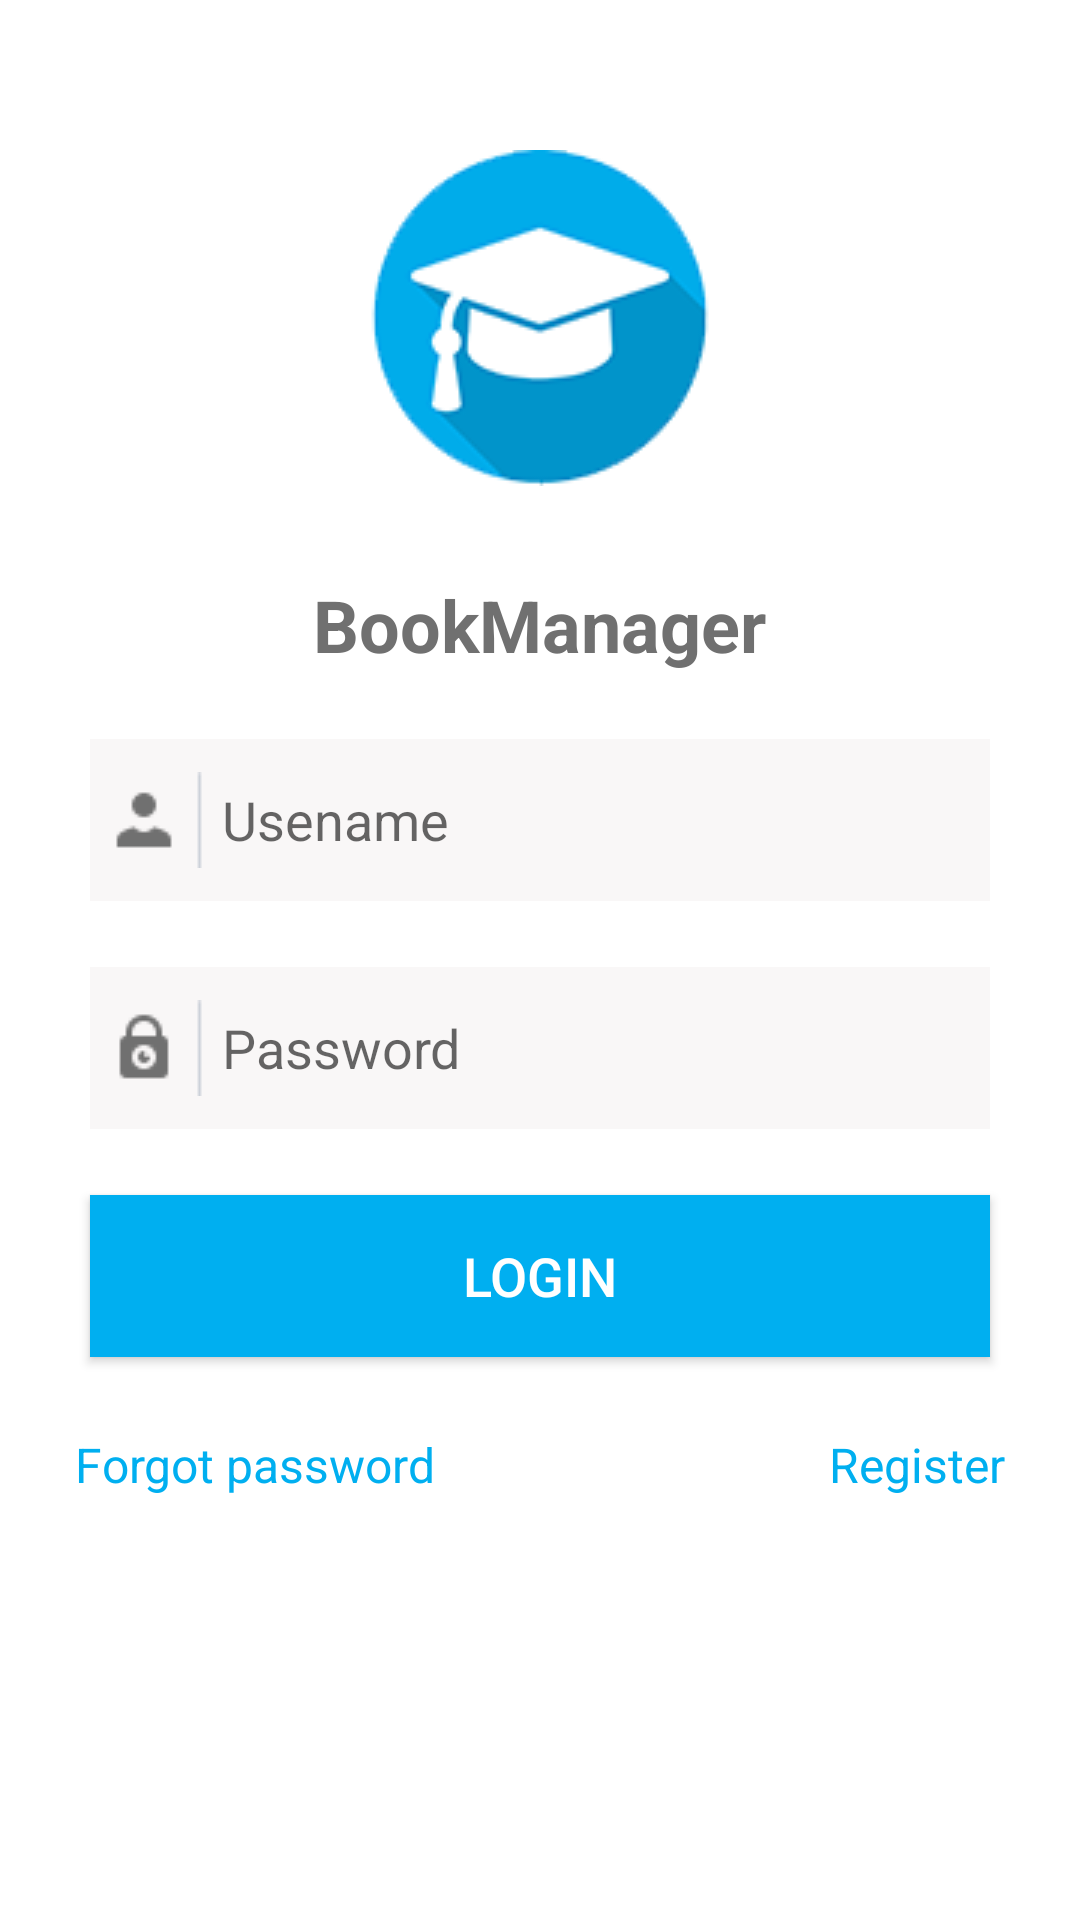

Named icons in this screenshot (1080px x 1920px) and their bounding boxes, [left=x1, top=y1, right=x2, bottom=y2]:
matkhau: [left=119, top=1014, right=169, bottom=1079]
